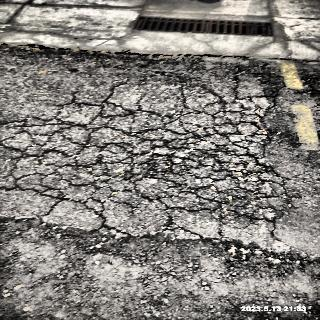crack: (118, 134, 300, 245), (0, 109, 147, 219), (75, 80, 279, 154)
